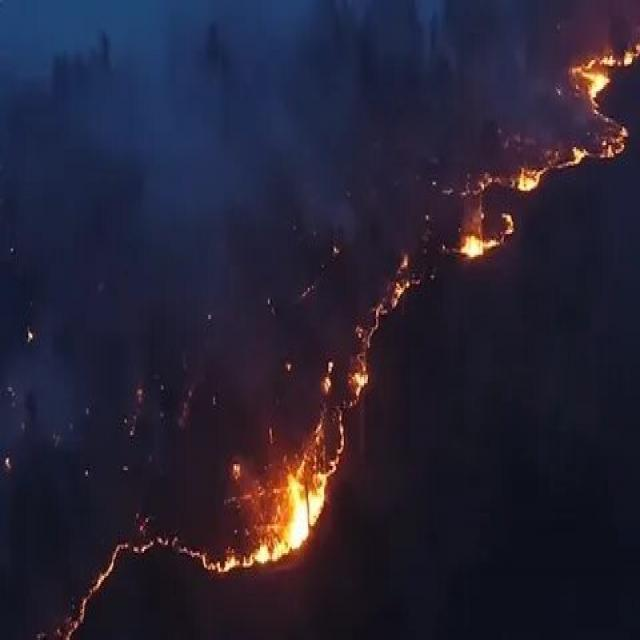Fire: (317, 111, 507, 383), (190, 401, 350, 617), (20, 489, 202, 640), (510, 22, 640, 200)
